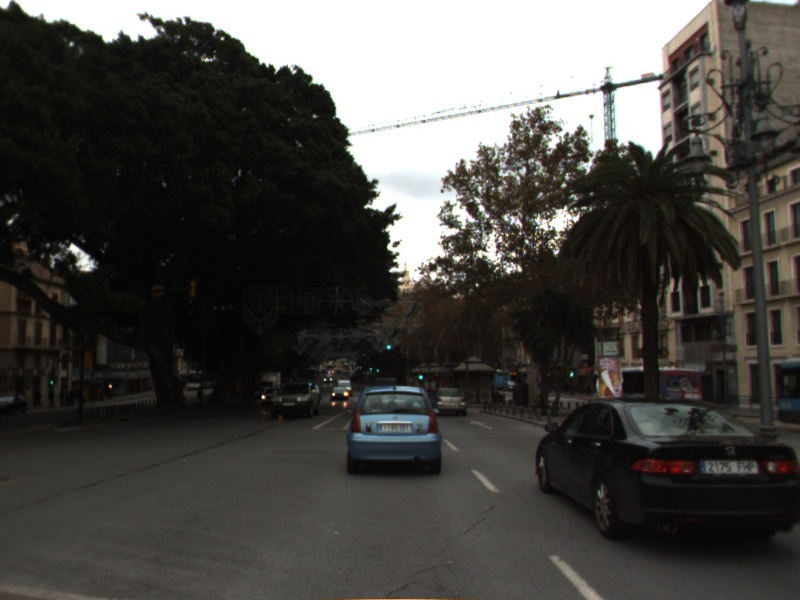STRAIGHT: (468, 418, 496, 432)
